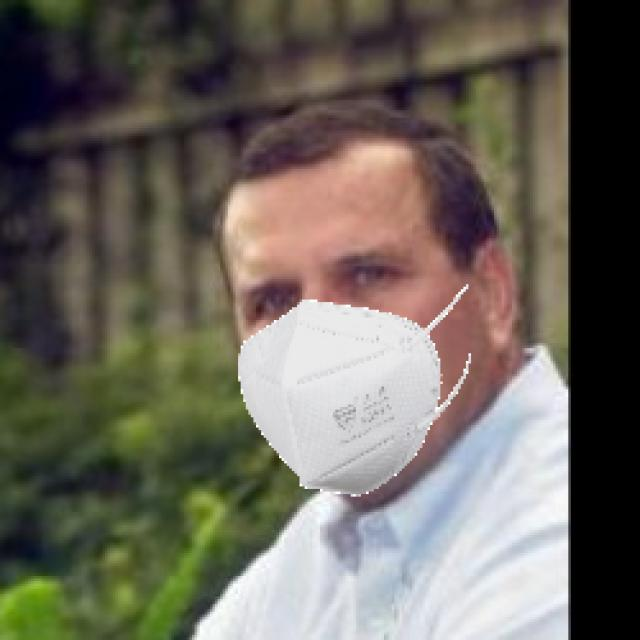mask: (229, 299, 455, 527)
